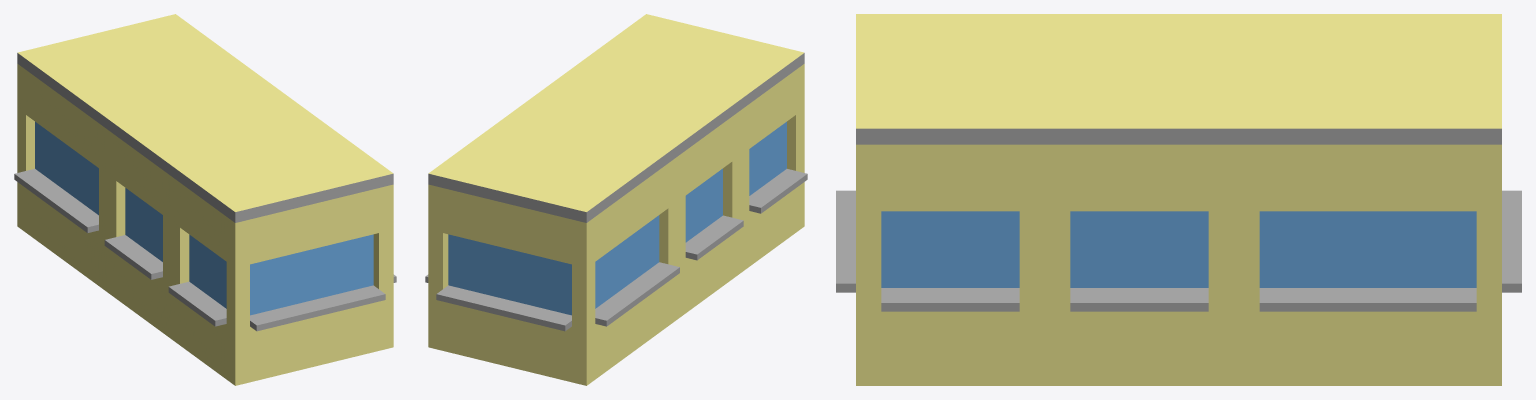
Rendered from building_1x2_2_f.glb.
3 views of the same model, side by side, from view 1: azimuth 30°, elevation 25°; view 2: azimuth 150°, elevation 25°; view 3: azimuth 270°, elevation 25° (orthographic). The views are drawn at different scales.
Visible parts, largest first — view 1: Cube.001; view 2: Cube.001; view 3: Cube.001.
Part boxes in pixels (box(x1,y1,x2,y2)): Cube.001: box(14, 14, 396, 385); Cube.001: box(425, 14, 807, 385); Cube.001: box(836, 14, 1521, 385).
Bounding box in the file's own units: 1.75 × 1.6 × 3.86.
